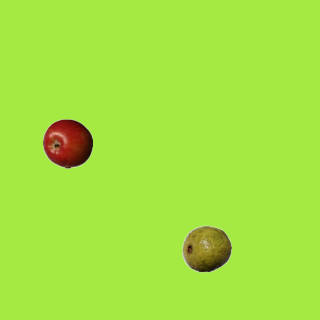Apple Braeburn: (42, 118, 92, 168)
Guava: (181, 223, 231, 273)
